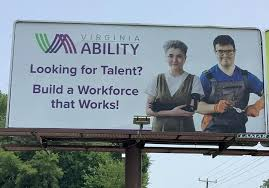poster: (5, 18, 269, 146)
